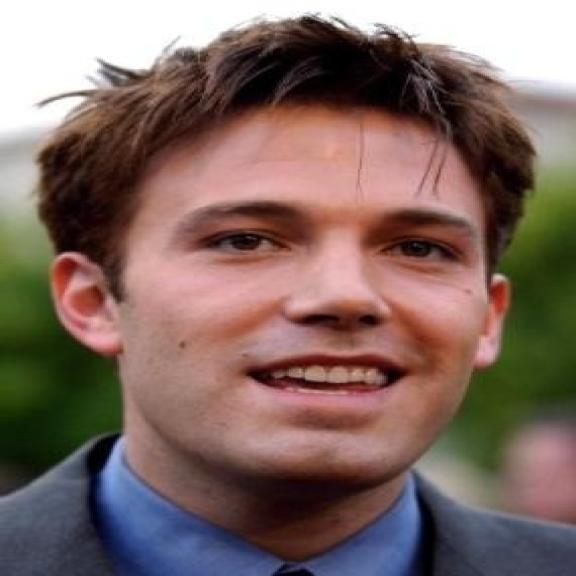face: (44, 36, 521, 491)
